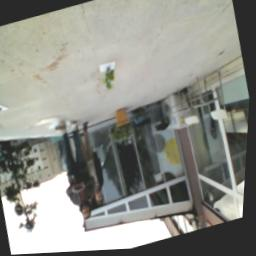herb: (101, 66, 120, 95)
